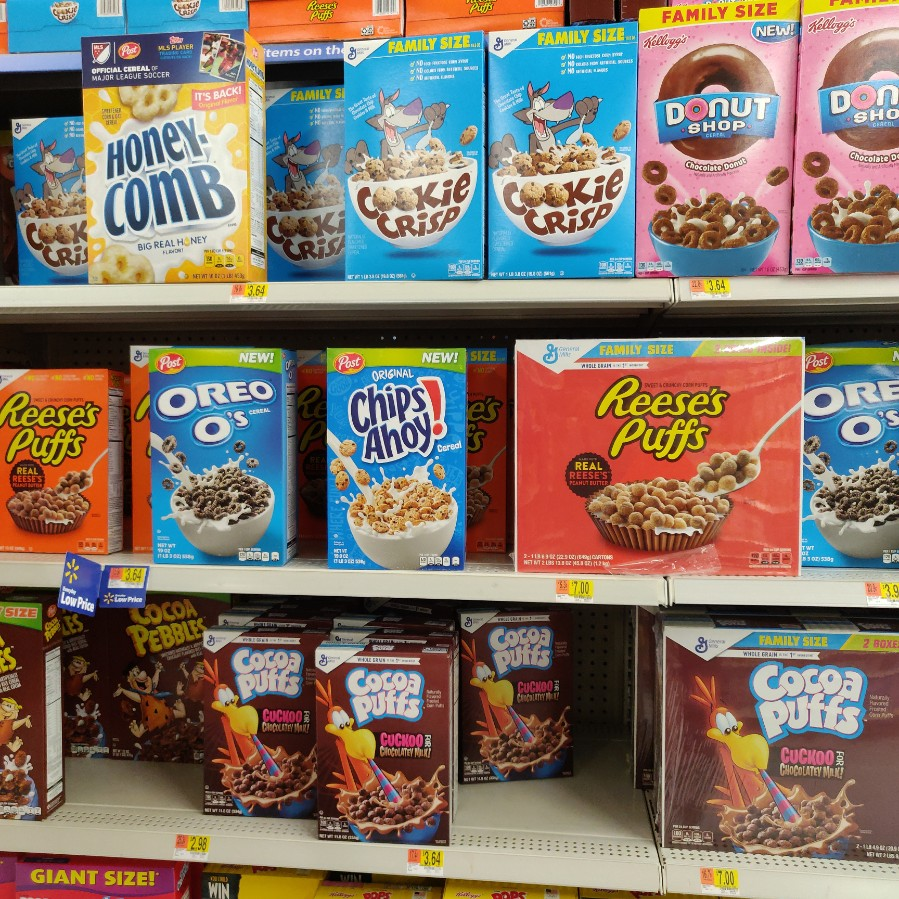Chips Ahoys-565717529: (329, 344, 462, 570)
Honey Comb- 009288857: (84, 39, 265, 285)
Oreo-563424384: (150, 346, 291, 564), (803, 340, 894, 572)
